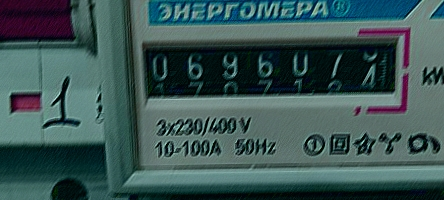0: (148, 51, 170, 82), (290, 48, 310, 77)
4: (357, 62, 377, 91)
6: (254, 48, 275, 80), (184, 51, 204, 80)
7: (325, 46, 344, 78)
9: (219, 50, 240, 79)
screen: (130, 21, 414, 118)
